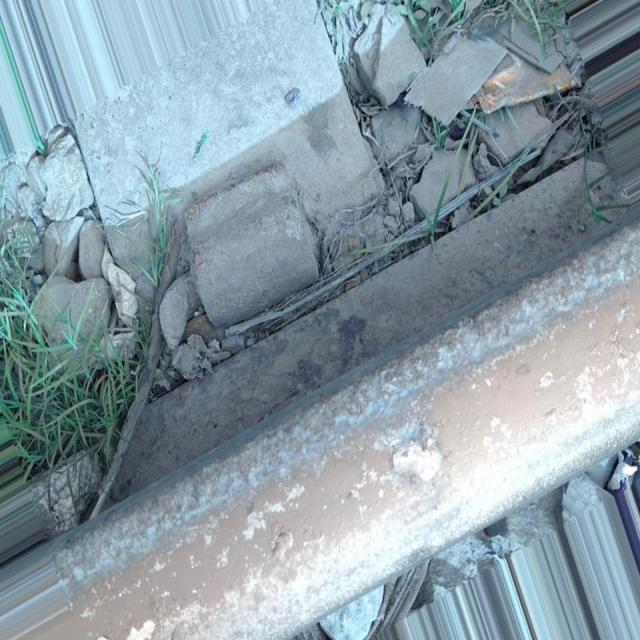Missing Fastener: (122, 156, 350, 377)
